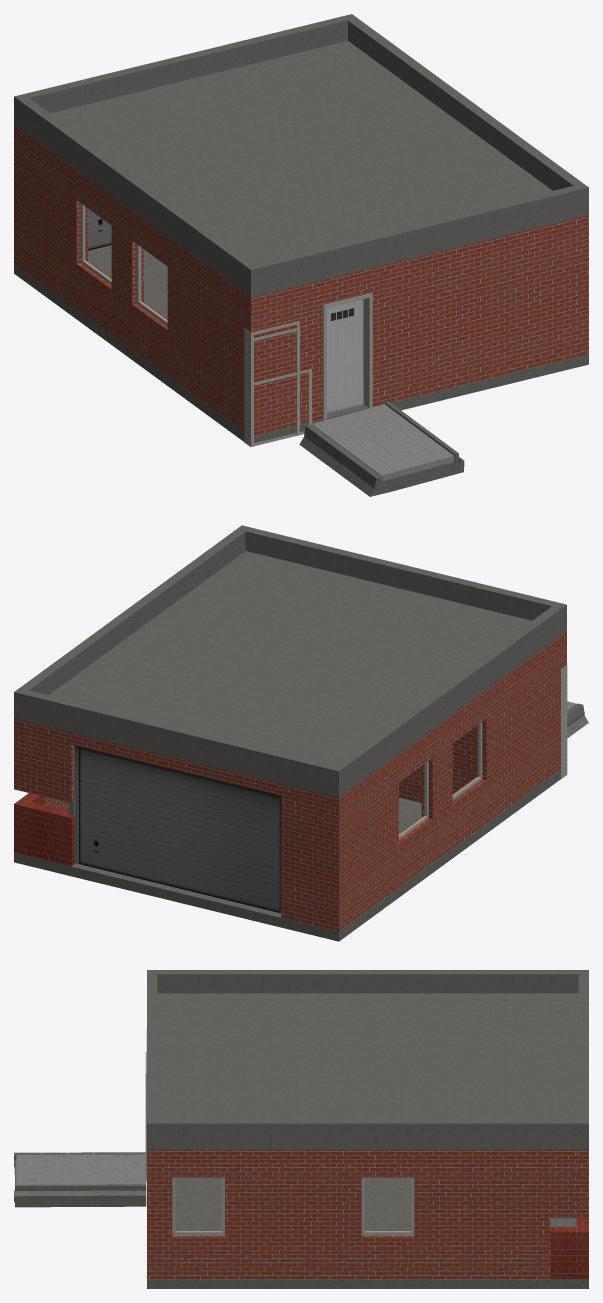
The picture shows the model from 3 angles, top to bottom: view 1: azimuth 30°, elevation 25°; view 2: azimuth 150°, elevation 25°; view 3: azimuth 270°, elevation 25°; orthographic projection. The views are drawn at different scales.
Visible parts, largest first — view 1: IfcBuildingElementProxy/BUILDINGELEMENTPROXY | Standard(1)_0; view 2: IfcBuildingElementProxy/BUILDINGELEMENTPROXY | Standard(1)_0; view 3: IfcBuildingElementProxy/BUILDINGELEMENTPROXY | Standard(1)_0.
Boxes of the visible parts, bbox=[...] form: IfcBuildingElementProxy/BUILDINGELEMENTPROXY | Standard(1)_0: bbox=[14, 14, 588, 496]; IfcBuildingElementProxy/BUILDINGELEMENTPROXY | Standard(1)_0: bbox=[14, 525, 588, 941]; IfcBuildingElementProxy/BUILDINGELEMENTPROXY | Standard(1)_0: bbox=[14, 970, 588, 1288].
Size of the model in its own units: 6.96 by 3.68 by 10.99.
Materials: 7 (7 with a texture image).
